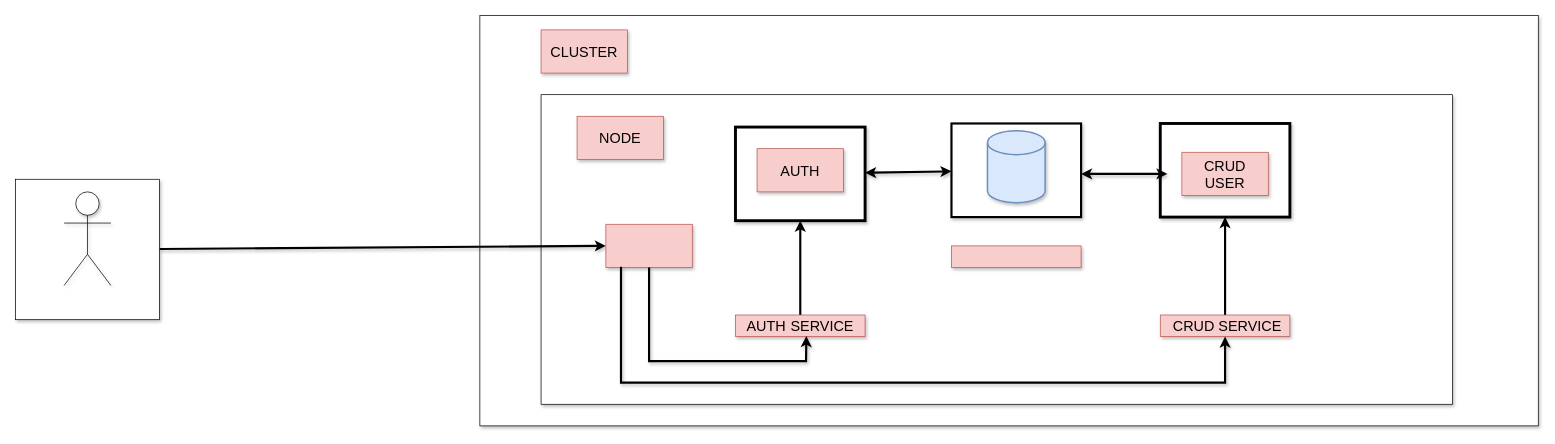
The diagram is 1555 pixels wide and 444 high, and some of its shapes have lost their labels. The centre of each missing label's shape, as x and y in pixels:
CLIENT: the point at 87,239
DATABASE: the point at 1016,257
INGRESS: the point at 649,247
